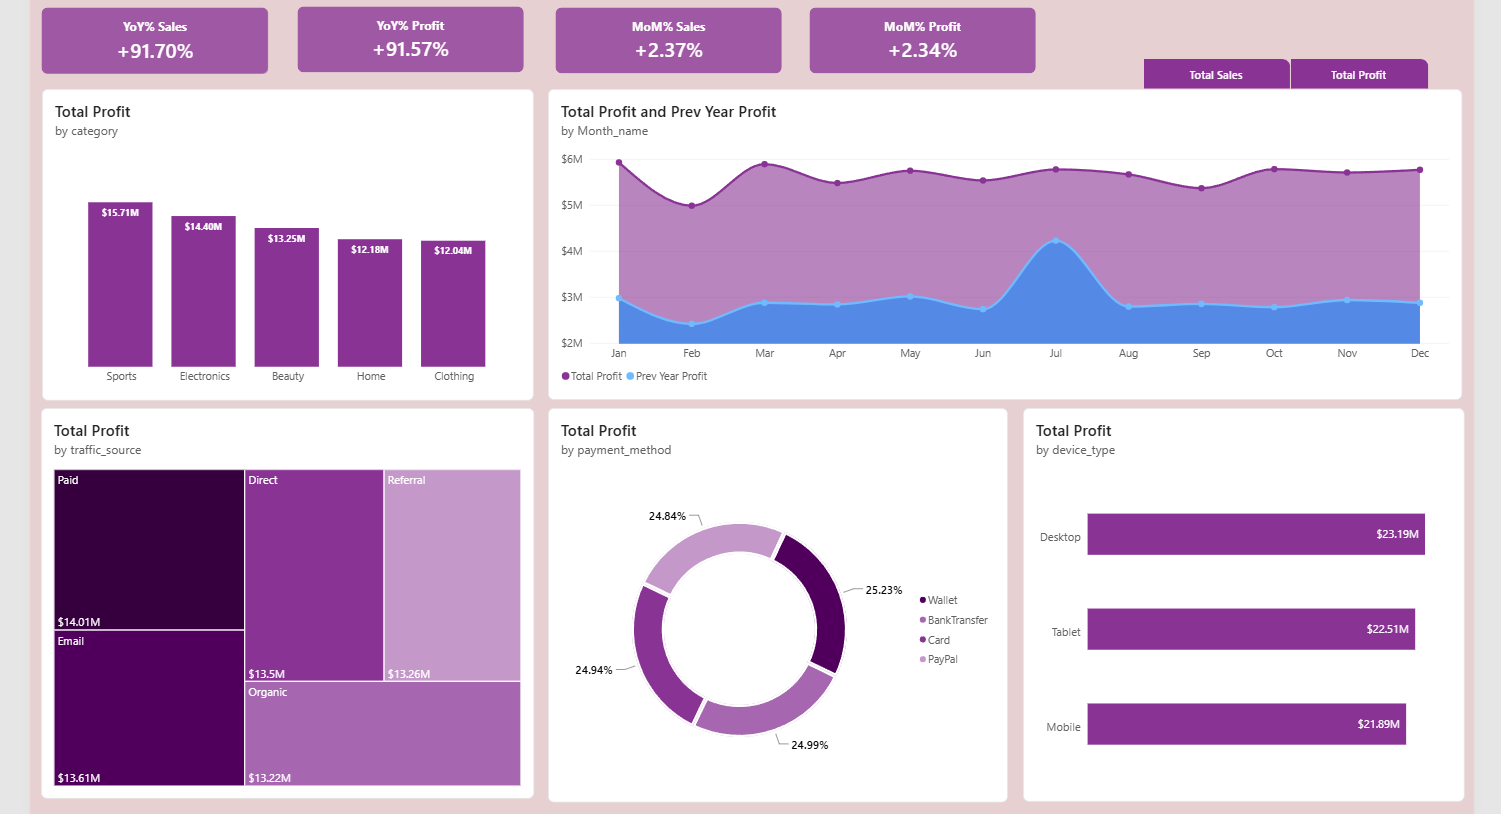

The page's visual inventory and layout, read from the dashboard file:
{"tool":"powerbi","page":{"name":"Sales Analysis","canvas":[1900,1100],"ordinal":2},"visuals":[{"type":"clusteredBarChart","fields":{"Category":["vw_orders.device_type"],"Y":["Calculations.Total Sales"]},"box":[1306.5,550,578.7,518.5],"z":0,"group":"g1"},{"type":"donutChart","fields":{"Category":["vw_orders.payment_method"],"Y":["Calculations.Total Sales"]},"box":[682.7,550,602,518.5],"z":1000,"group":"g1"},{"type":"group","id":"g1","title":"Sales","box":[15,21.9,1870.3,1046.6],"z":1500},{"type":"treemap","fields":{"Group":["vw_orders.traffic_source"],"Values":["Calculations.Total Sales"]},"box":[15,550,648.5,514.4],"z":2000,"group":"g1"},{"type":"lineChart","fields":{"Category":["Date Table.Month_name"],"Y":["Calculations.Total Sales","Calculations.Prev Year Sales"]},"box":[682.7,130,1202.6,410.4],"z":3000,"group":"g1"},{"type":"columnChart","fields":{"Category":["vw_products.category"],"Y":["Calculations.Total Sales"]},"box":[15,130,648.5,410.4],"z":4000,"group":"g1"},{"type":"actionButton","box":[1659.5,90.3,180.8,39.4],"z":5000,"group":"g1"},{"type":"actionButton","box":[1466.6,90.3,192.5,39.4],"z":6000,"group":"g1"},{"type":"cardVisual","fields":{"Data":["Calculations.MoM % Profit"]},"box":[1027.4,21.9,300,80],"z":7000,"group":"g1"},{"type":"cardVisual","fields":{"Data":["Calculations.MoM %"]},"box":[690.3,21.9,300,80],"z":8000,"group":"g1"},{"type":"cardVisual","fields":{"Data":["Calculations.YoY% profit"]},"box":[353.5,24.2,299.6,79.4],"z":9000,"group":"g1"},{"type":"cardVisual","fields":{"Data":["Calculations.YOY % growth"]},"box":[16.4,21.9,300,80],"z":10000,"group":"g1"}]}

Visuals, with their boxes on the page's 1900x1100 design canvas (x1, y1, x2, y2). These are canvas units, not pixel positions in the 1501x814 screenshot, which may show the page scaled, cropped or inside an application window:
clusteredBarChart - vw_orders.device_type x Calculations.Total Sales: l=1306, t=550, r=1885, b=1068
donutChart - vw_orders.payment_method x Calculations.Total Sales: l=683, t=550, r=1285, b=1068
"Sales" group: l=15, t=22, r=1885, b=1068
treemap - vw_orders.traffic_source x Calculations.Total Sales: l=15, t=550, r=664, b=1064
lineChart - Date Table.Month_name x Calculations.Total Sales: l=683, t=130, r=1885, b=540
columnChart - vw_products.category x Calculations.Total Sales: l=15, t=130, r=664, b=540
actionButton: l=1660, t=90, r=1840, b=130
actionButton: l=1467, t=90, r=1659, b=130
cardVisual - Calculations.MoM % Profit: l=1027, t=22, r=1327, b=102
cardVisual - Calculations.MoM %: l=690, t=22, r=990, b=102
cardVisual - Calculations.YoY% profit: l=354, t=24, r=653, b=104
cardVisual - Calculations.YOY % growth: l=16, t=22, r=316, b=102
